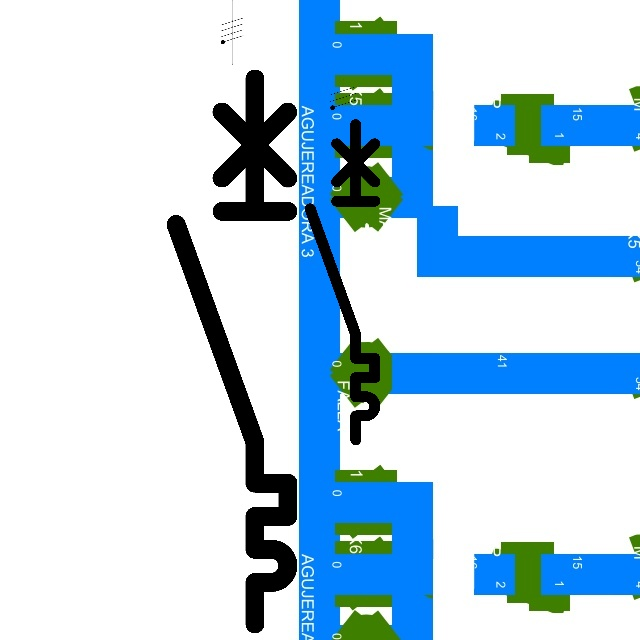interruptor_termomagnetico: (162, 64, 302, 637), (302, 116, 383, 447)
